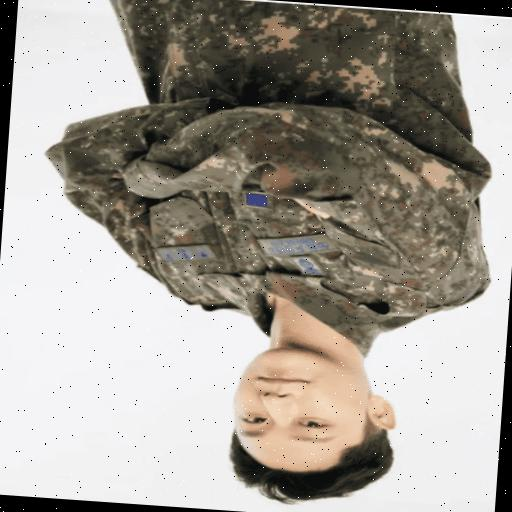korea army: (19, 0, 508, 512)
